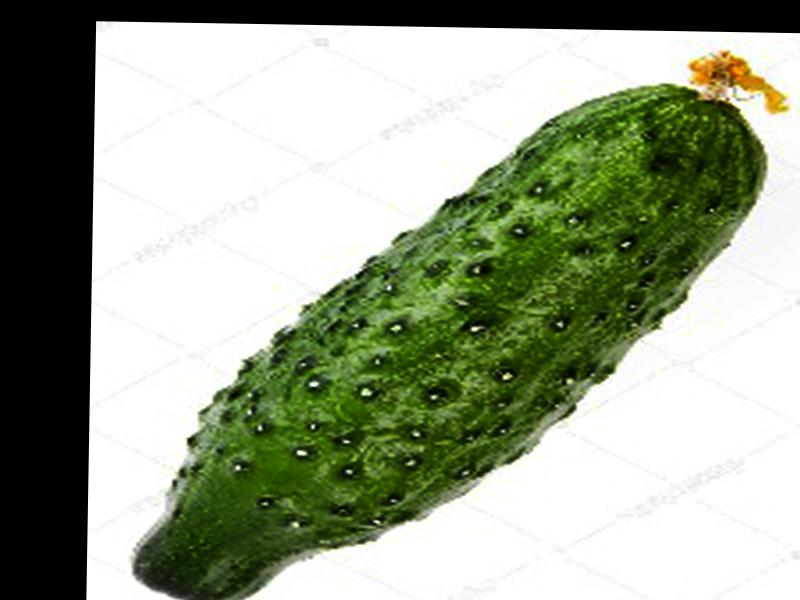Cucumber: (131, 42, 785, 600)
